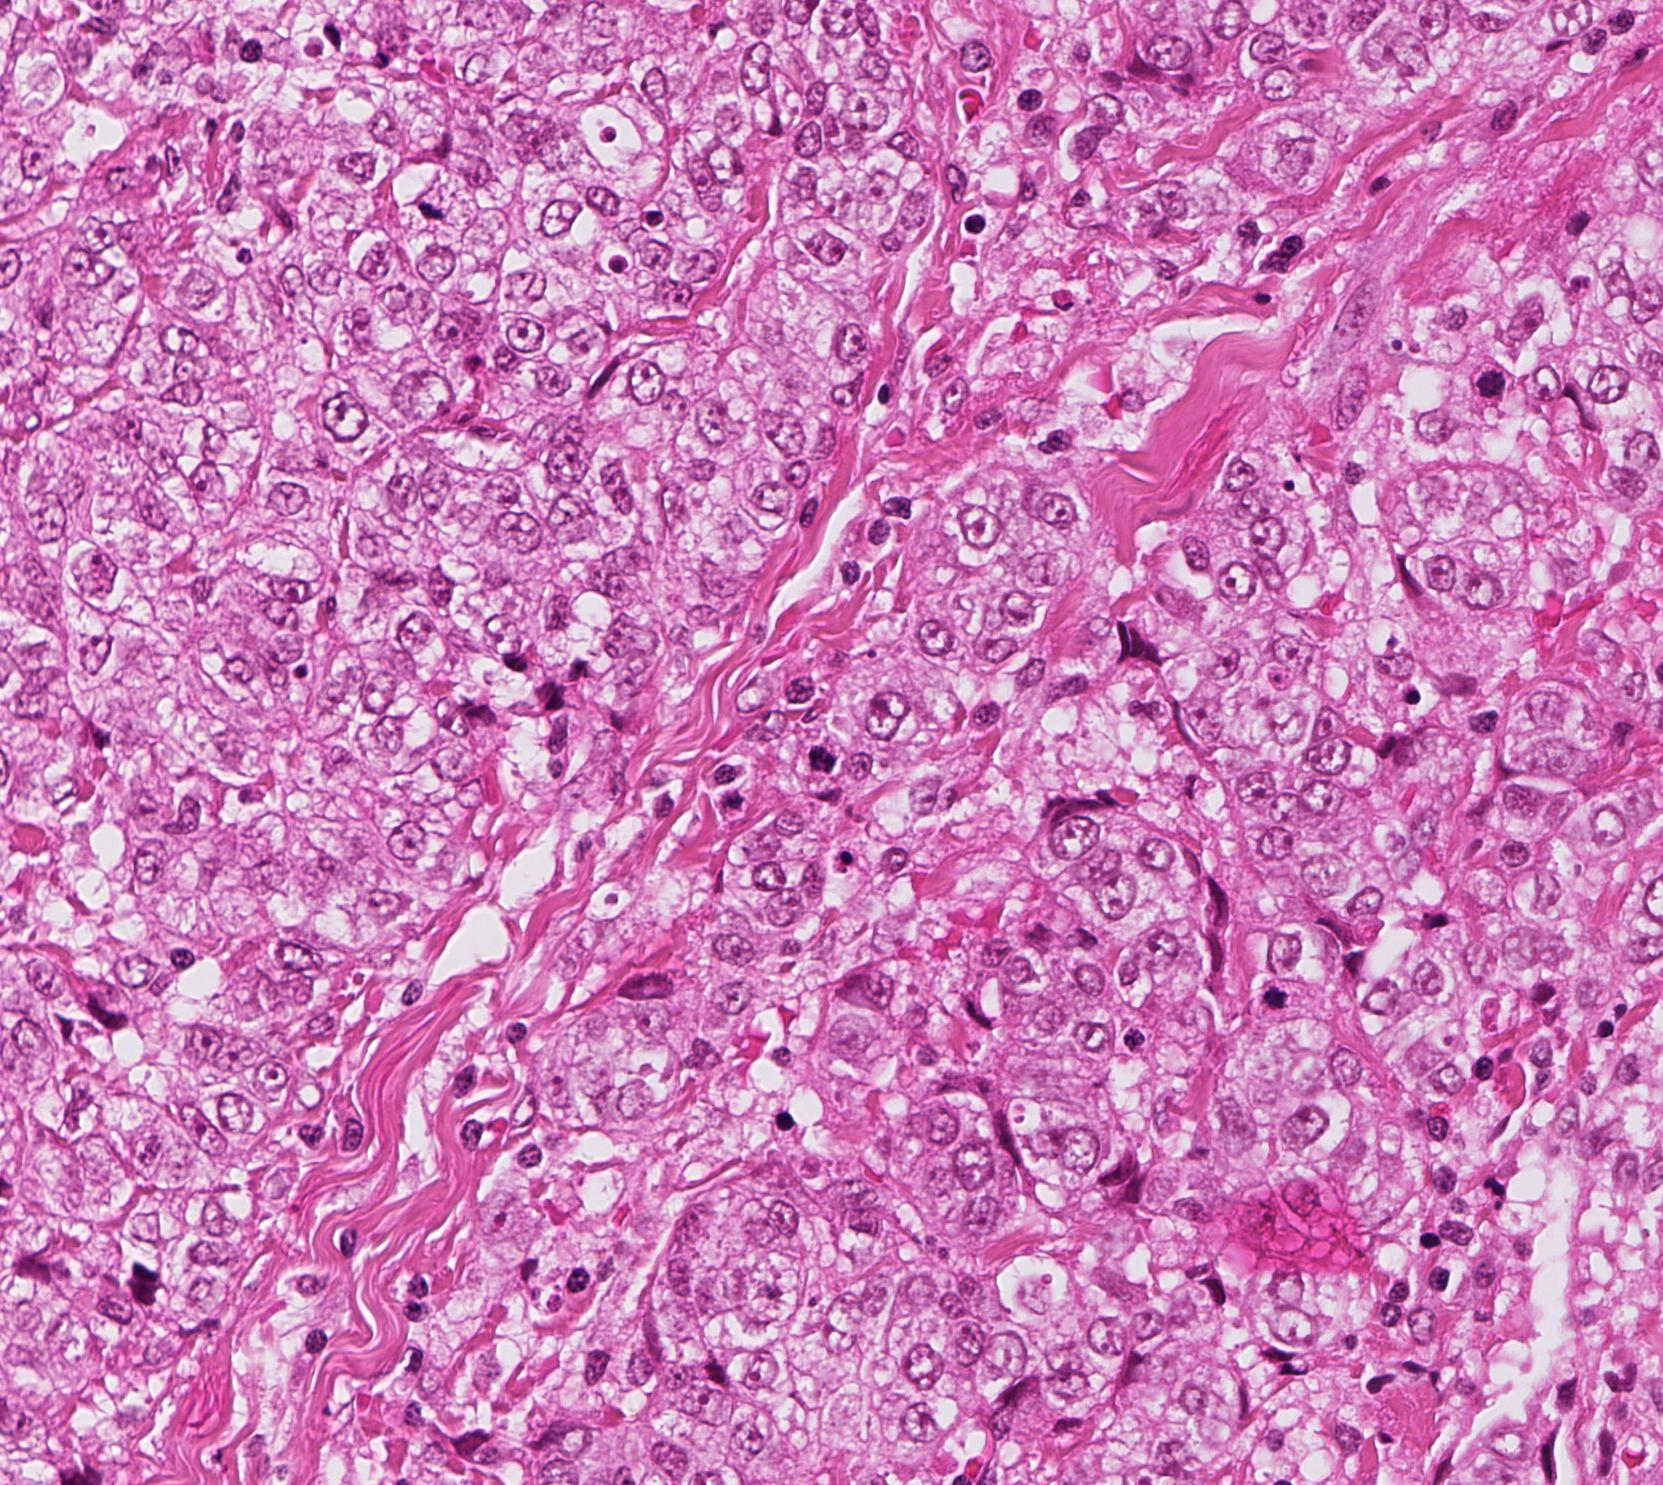mitosis: (1462, 345, 1523, 406), (1247, 960, 1307, 1021), (788, 741, 849, 801), (399, 178, 457, 238)
